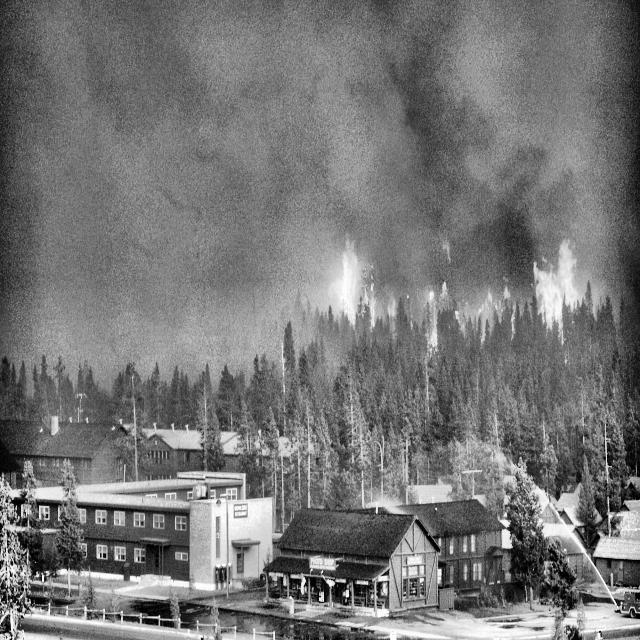fire: (279, 236, 612, 367)
